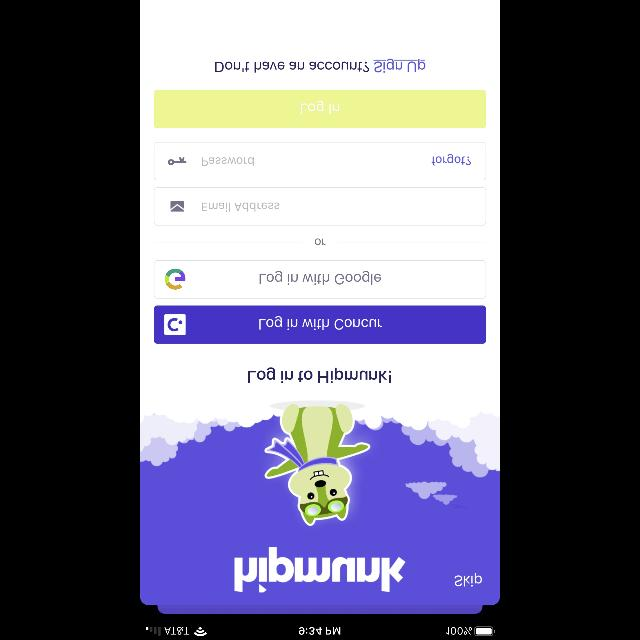icon: (168, 157, 186, 165), (172, 201, 184, 211)
image: (142, 399, 500, 605), (235, 548, 405, 592)
input: (154, 142, 486, 180), (154, 187, 486, 225)
text: (215, 59, 425, 73), (248, 368, 392, 382), (202, 202, 280, 212), (432, 154, 471, 166), (202, 158, 254, 166), (454, 572, 482, 586), (314, 238, 326, 246)
textbutton: (154, 260, 486, 298), (154, 306, 486, 344), (154, 90, 486, 128)
uppertaskbar: (140, 626, 500, 640)
